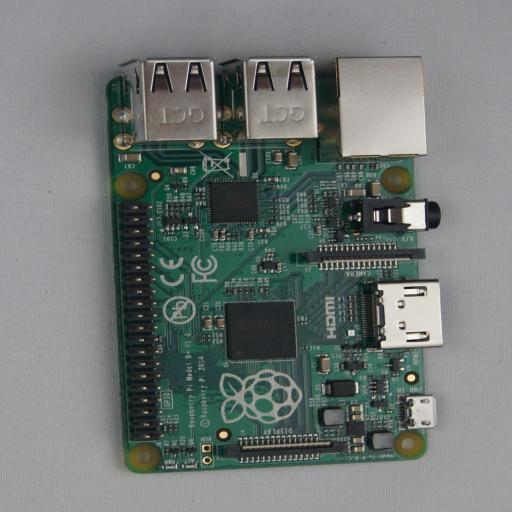Raspberry Pi 1 B-: (95, 54, 442, 474)
